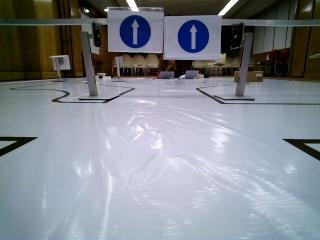straight: (108, 7, 164, 51), (166, 18, 220, 58)
